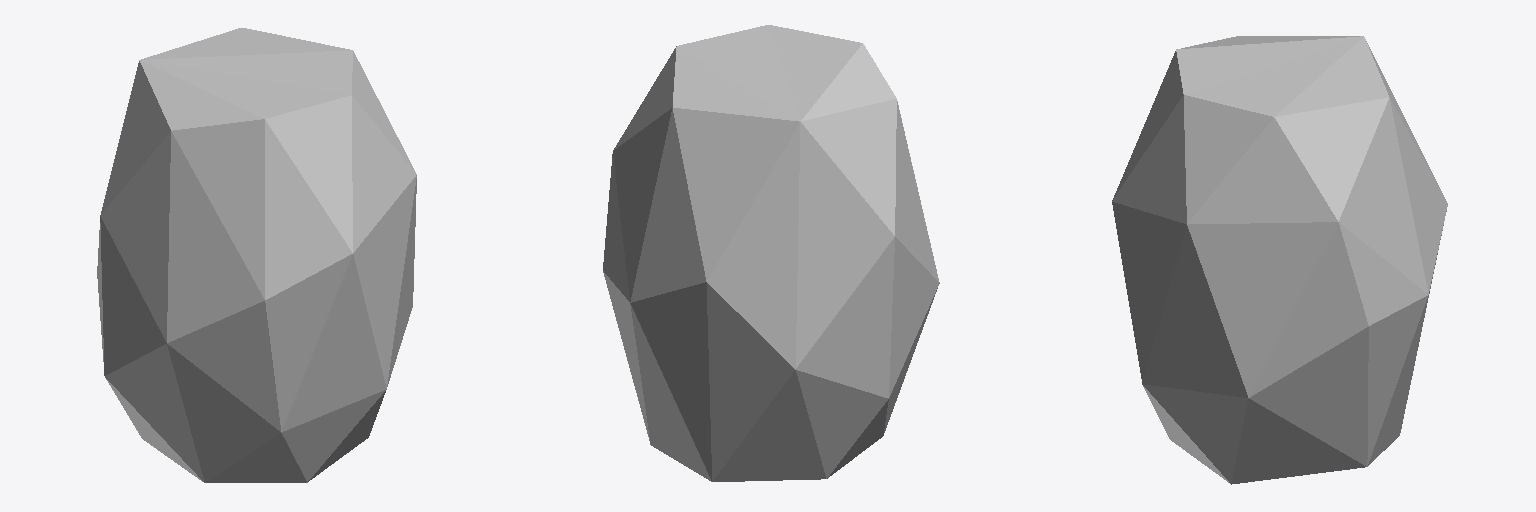
Rendered from Barrell_decimated_convex.obj.
3 views of the same model, side by side, from view 1: azimuth 30°, elevation 25°; view 2: azimuth 150°, elevation 25°; view 3: azimuth 270°, elevation 25° (orthographic).
Visible parts, largest first — view 1: my_mesh_Barrell.002; view 2: my_mesh_Barrell.002; view 3: my_mesh_Barrell.002.
Boxes of the visible parts, <box> form: my_mesh_Barrell.002: <box>97,28,416,482</box>; my_mesh_Barrell.002: <box>603,25,939,481</box>; my_mesh_Barrell.002: <box>1112,36,1447,484</box>.
Bounding box in the file's own units: 30.16 × 37.8 × 31.04.